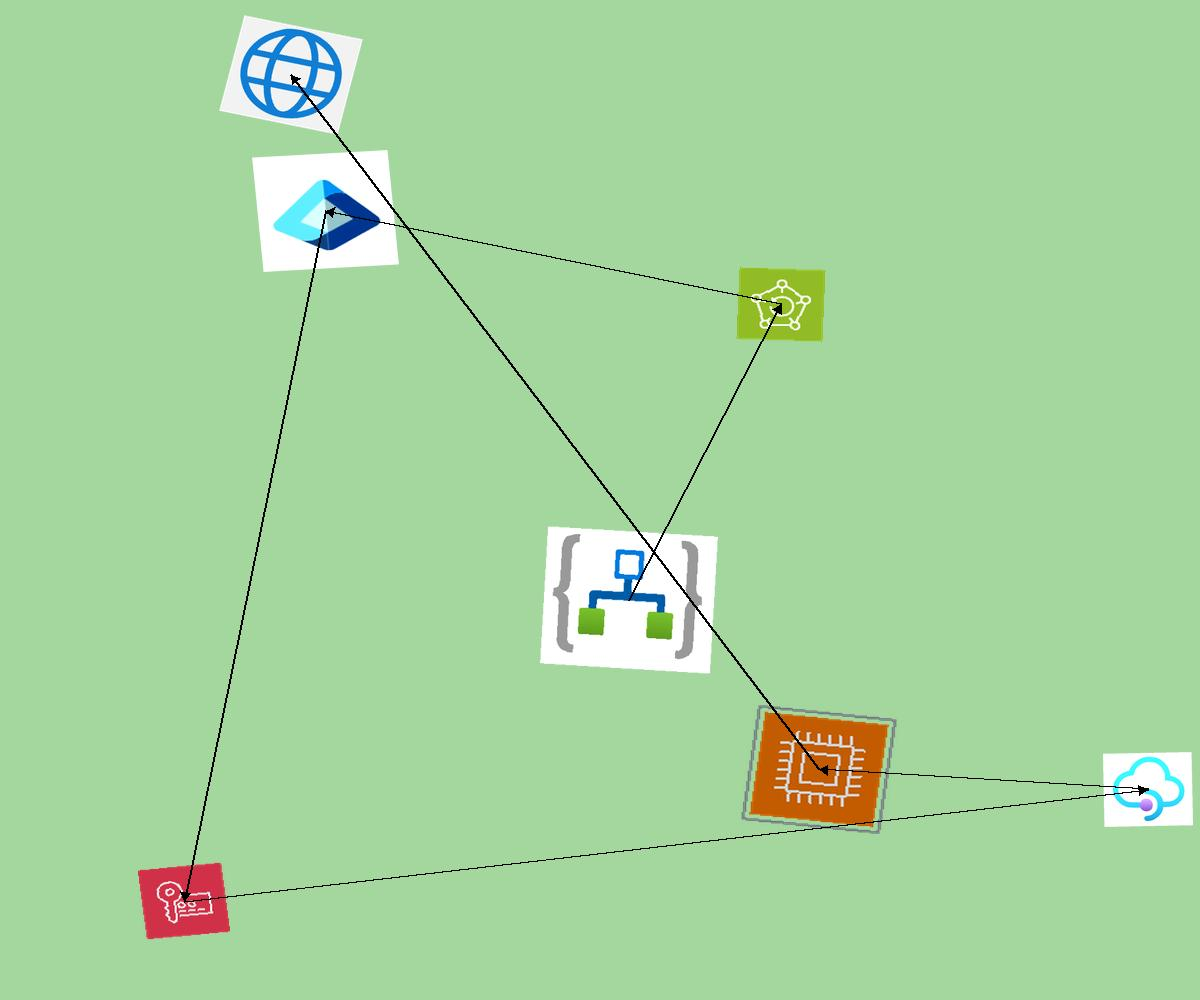AWS-Backup: (736, 267, 826, 342)
AWS-Category_Compute: (740, 704, 898, 835)
AWS-Key-Management-Service: (137, 862, 231, 940)
Azure_api_gateway: (1103, 752, 1193, 827)
Azure_http: (219, 15, 363, 135)
Azure_integration-204-Logic-Apps: (540, 526, 718, 674)
Azure_microsoft_entra: (252, 150, 399, 272)
